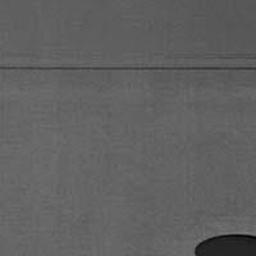Punching: (195, 234, 256, 256)
